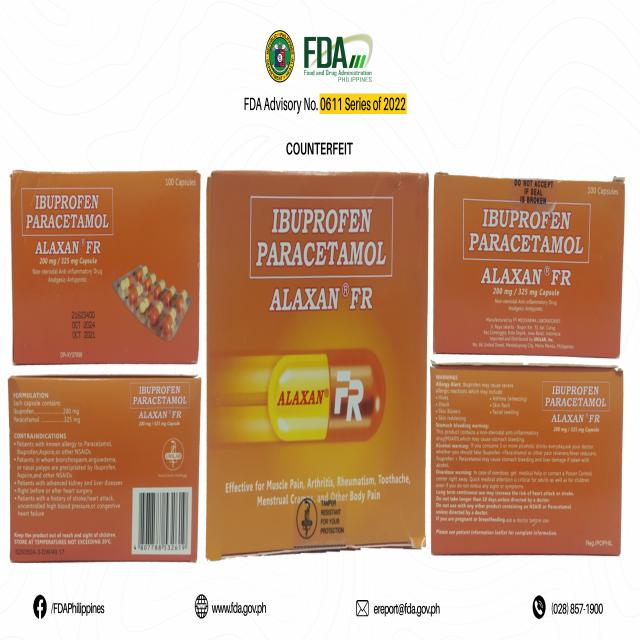counterfeit: (206, 170, 425, 548), (429, 361, 623, 558), (6, 372, 201, 562), (14, 166, 197, 364), (434, 170, 626, 358)
